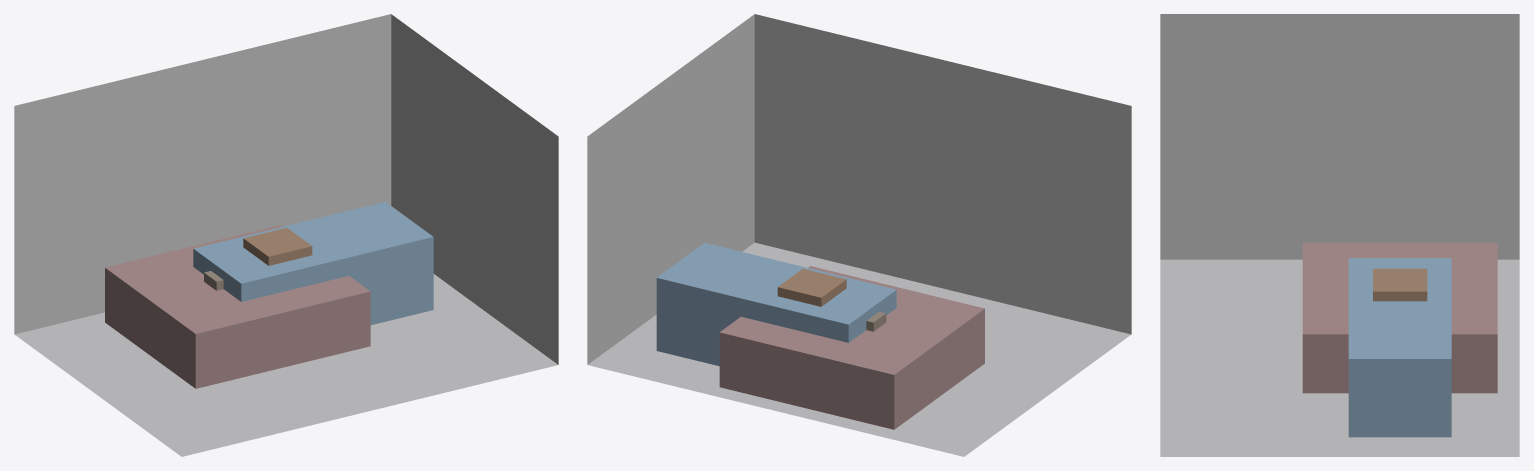
File: optimised_layout.glb
3 renders of one model, left to right at view 1: azimuth 30°, elevation 25°; view 2: azimuth 150°, elevation 25°; view 3: azimuth 270°, elevation 25°, orthographic. The views are drawn at different scales.
Visible parts, largest first — view 1: room, bed, couch, chair; view 2: room, bed, couch, chair; view 3: room, couch, bed, chair.
Part boxes in pixels (left/top/right/bottom): room: left=14, top=14, right=558, bottom=456; bed: left=105, top=225, right=370, bottom=388; couch: left=193, top=202, right=433, bottom=325; chair: left=243, top=228, right=312, bottom=265; room: left=587, top=14, right=1131, bottom=456; bed: left=719, top=266, right=984, bottom=429; couch: left=656, top=242, right=896, bottom=366; chair: left=777, top=269, right=846, bottom=306; room: left=1160, top=14, right=1519, bottom=456; couch: left=1348, top=258, right=1451, bottom=437; bed: left=1302, top=242, right=1497, bottom=393; chair: left=1373, top=268, right=1427, bottom=301.
Bounding box in the file's own units: 4.31 × 2.5 × 3.32.
